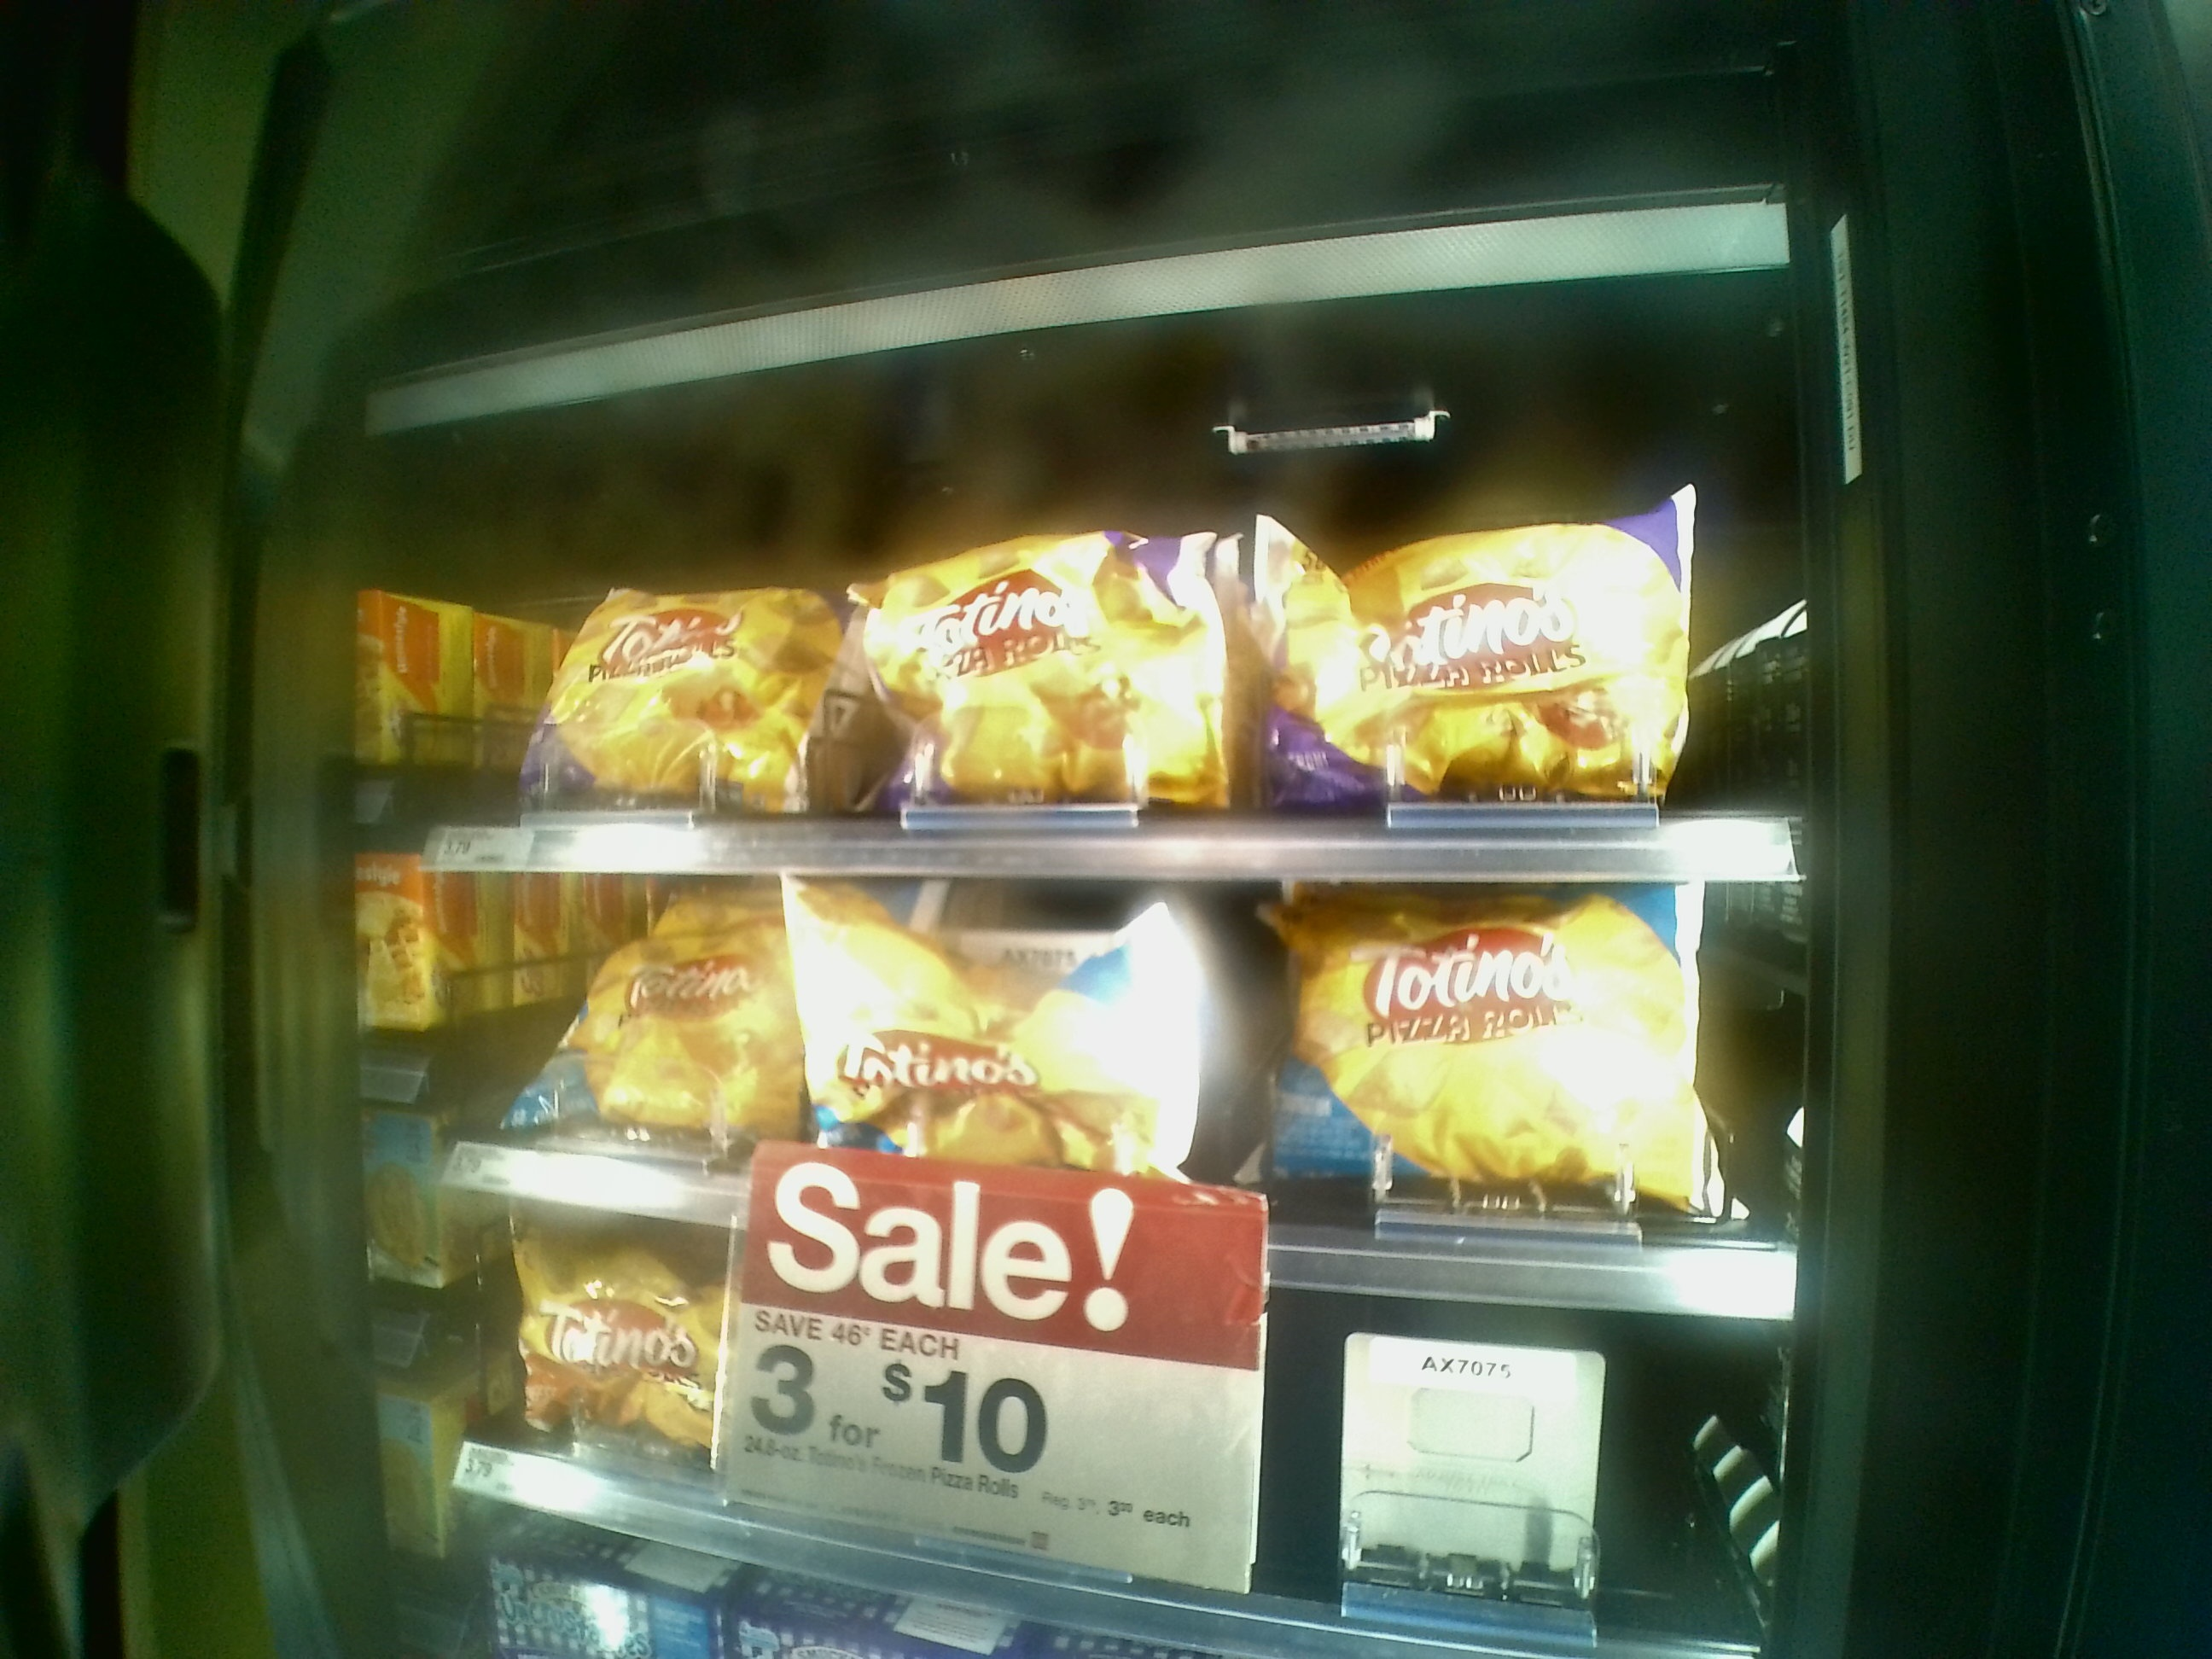shelf: (402, 866, 1796, 1319), (430, 460, 1785, 882)
